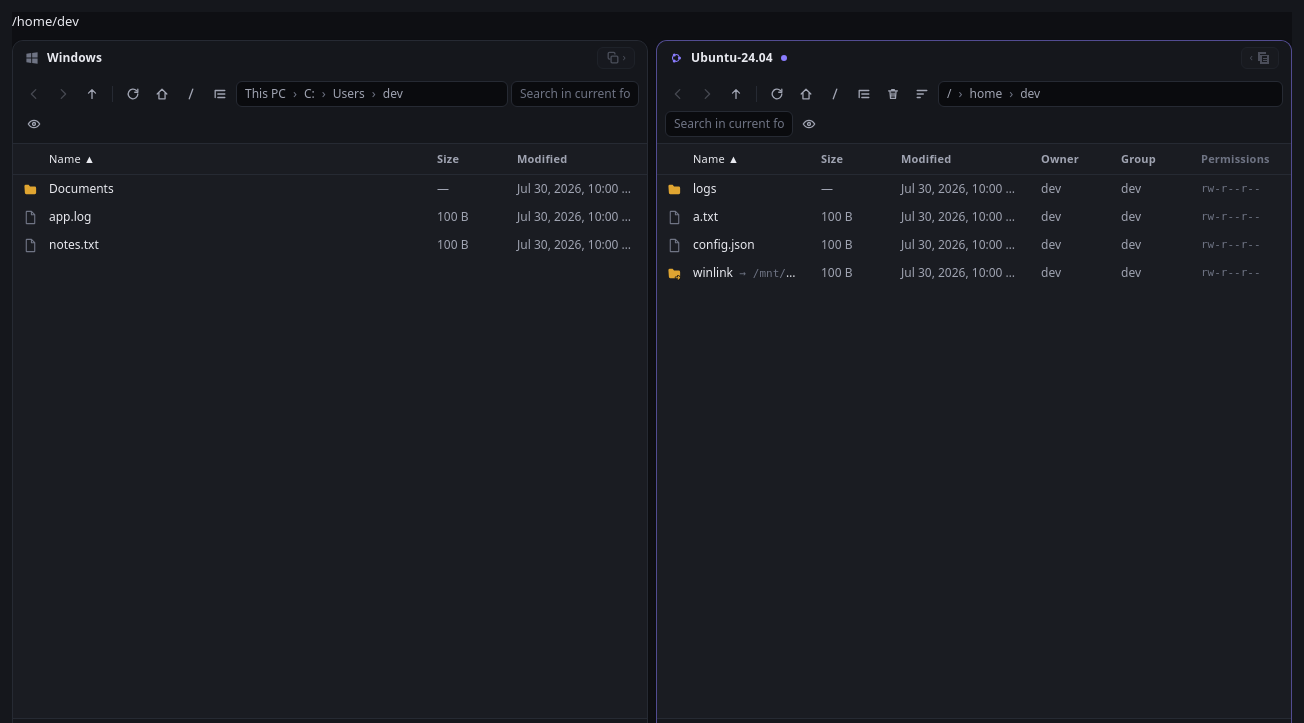
it: context menus › offers no chmod command on Windows entries but keeps it on WSL entries
Check: the text "config.json" is shown, box [693, 236, 755, 253]
Right-click the text "notes.txt": (74, 244) [49, 236, 99, 253]
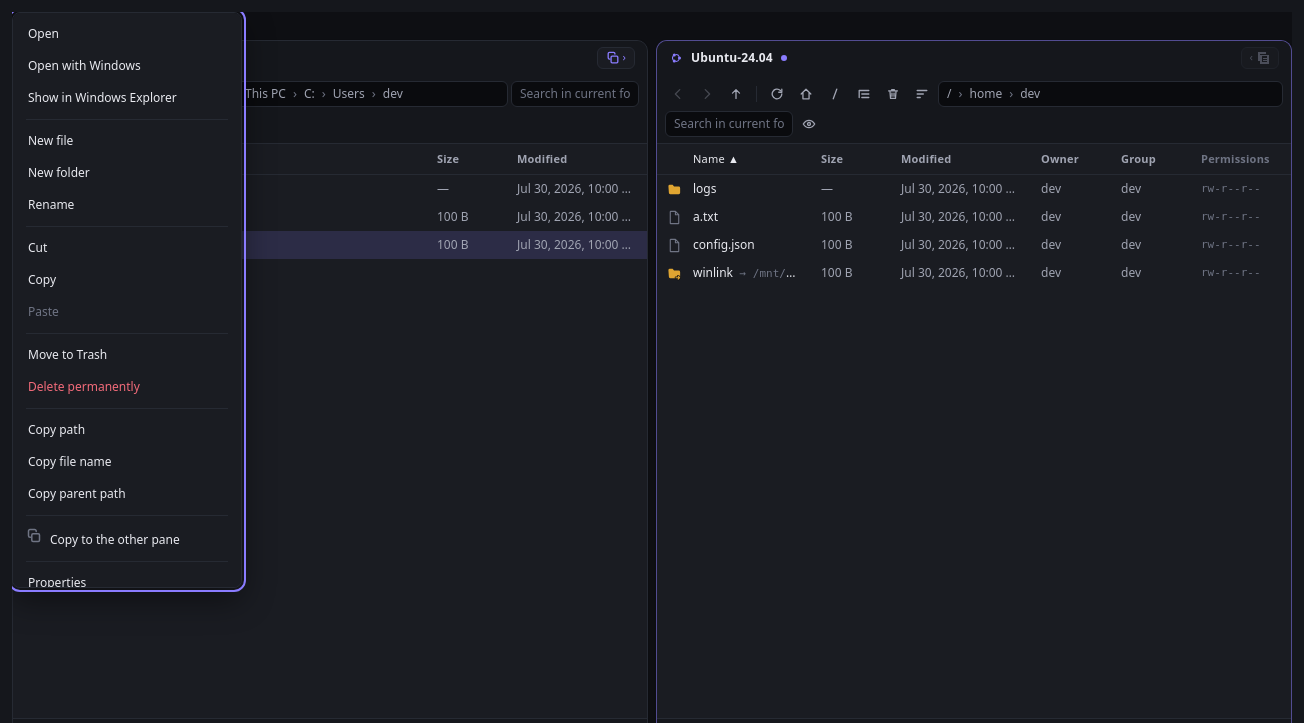
Check: the menu item "Prepare chmod command" is not shown
Check: the menu item "Show in Windows Explorer" is shown, box [18, 82, 236, 114]
Press Escape in the menu, box [12, 12, 242, 588]
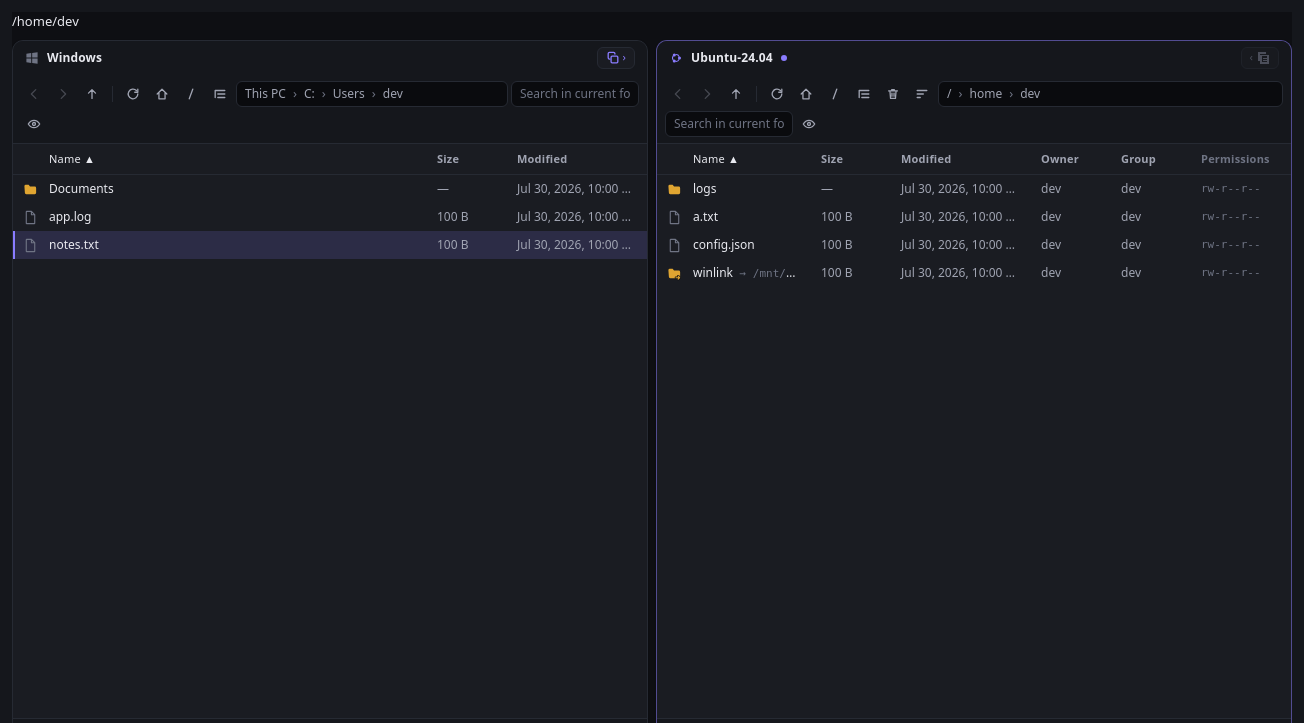
Right-click the text "config.json": (724, 244) [693, 236, 755, 253]
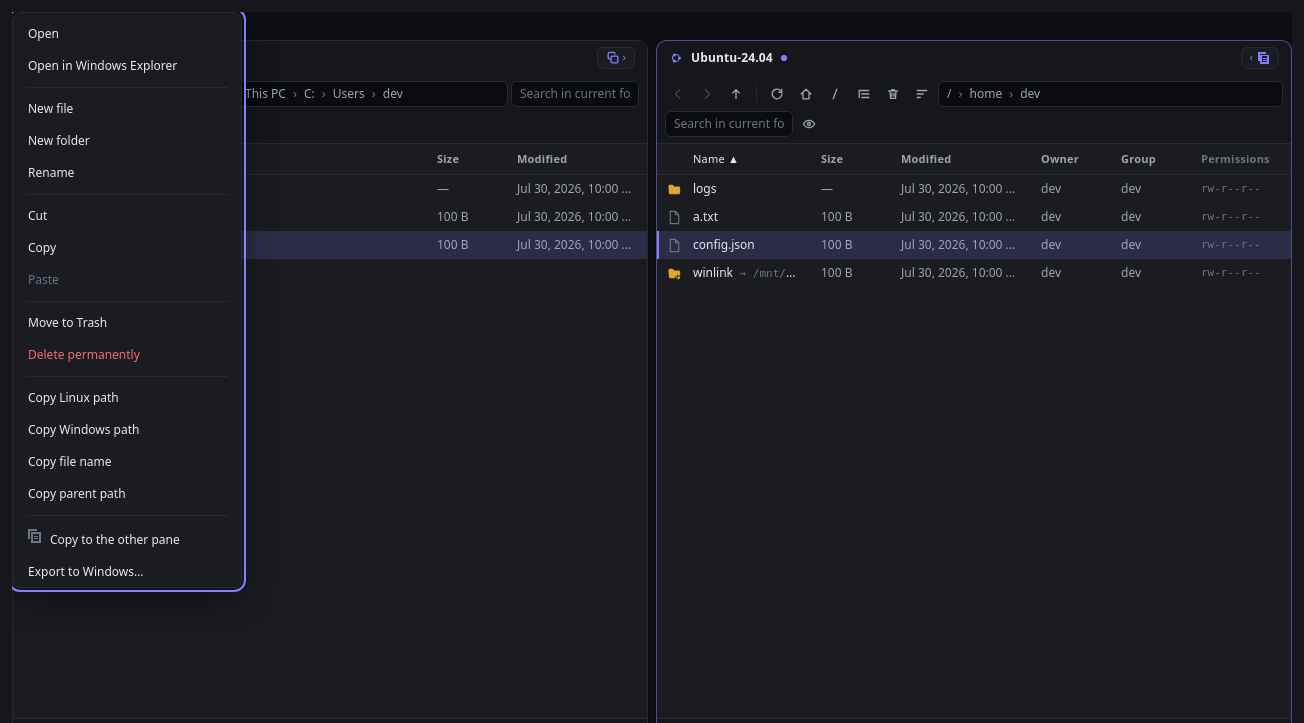
Check: the menu item "Copy Linux path" is shown, box [18, 382, 236, 414]
